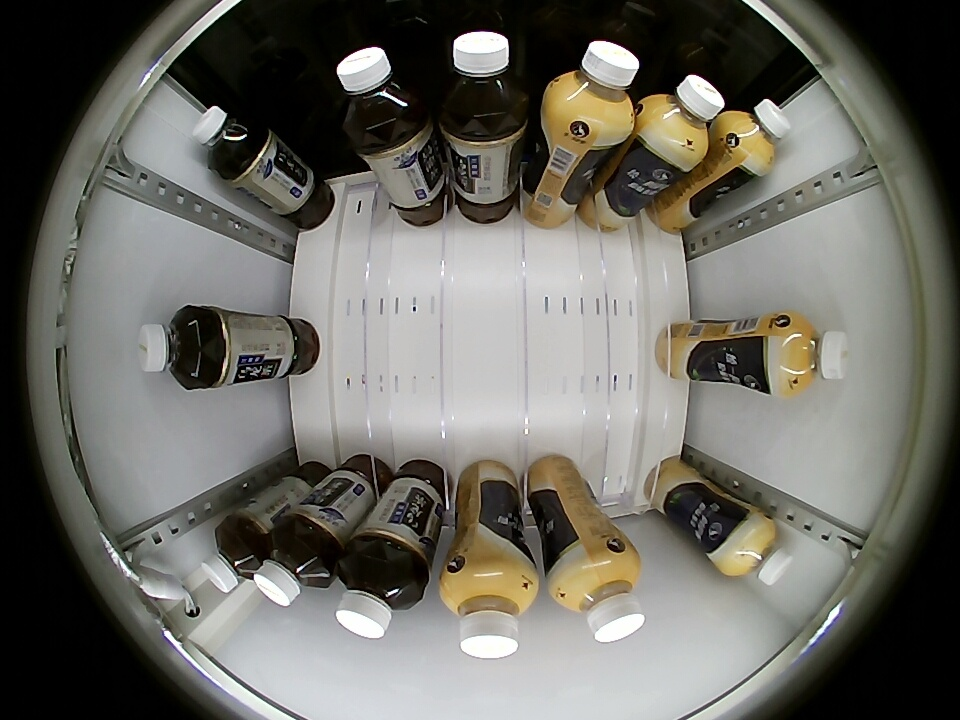asamu: (440, 562, 539, 660), (550, 546, 645, 645), (545, 39, 640, 134), (640, 74, 725, 158), (768, 314, 850, 395), (721, 513, 793, 585), (725, 97, 792, 172)
wulongcha: (438, 30, 530, 130), (336, 46, 428, 143), (334, 551, 426, 640), (254, 524, 334, 608), (137, 305, 215, 389), (192, 104, 260, 176), (201, 519, 265, 592)
